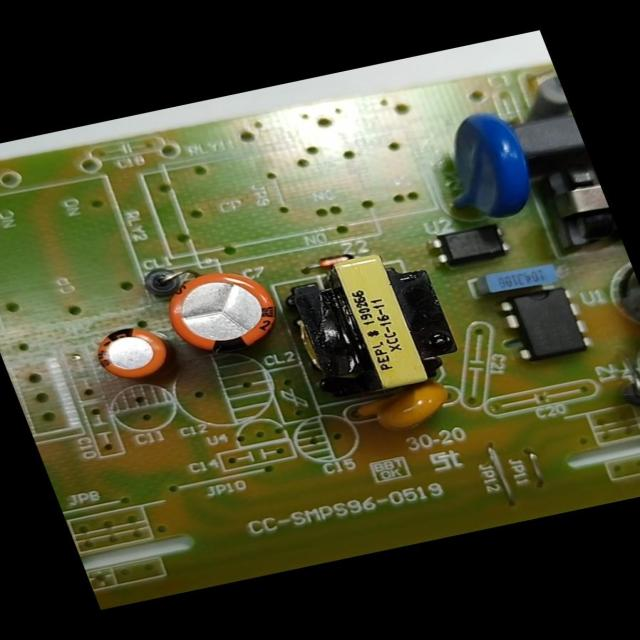Cap1: (148, 259, 297, 367)
Cap2: (76, 318, 186, 392)
Cap3: (594, 248, 640, 338)
Cap4: (622, 322, 639, 416)
MOSFET: (488, 274, 607, 371)
Mov: (409, 100, 557, 234)
Resistor: (505, 69, 578, 141)
Transformer: (260, 241, 476, 413), (518, 156, 624, 262)
